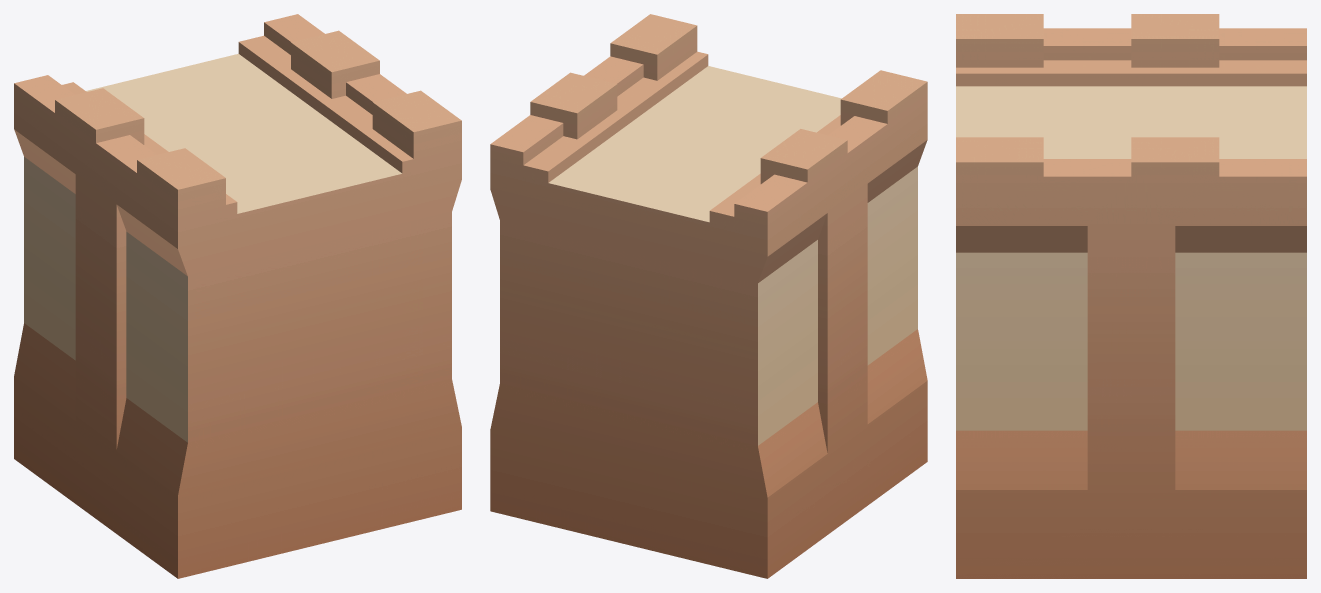
File: wall-pillar.glb
3 views of the same model, side by side, from view 1: azimuth 30°, elevation 25°; view 2: azimuth 150°, elevation 25°; view 3: azimuth 270°, elevation 25° (orthographic). The views are drawn at different scales.
Parts seen in each view (by area): view 1: wall-pillar; view 2: wall-pillar; view 3: wall-pillar.
Part boxes in pixels (x1=…): wall-pillar: x1=14, y1=14, x2=461, y2=578; wall-pillar: x1=490, y1=14, x2=927, y2=578; wall-pillar: x1=956, y1=14, x2=1306, y2=578.
Size of the model in its own units: 1 by 1.31 by 1.
1 material, 1 textured.
